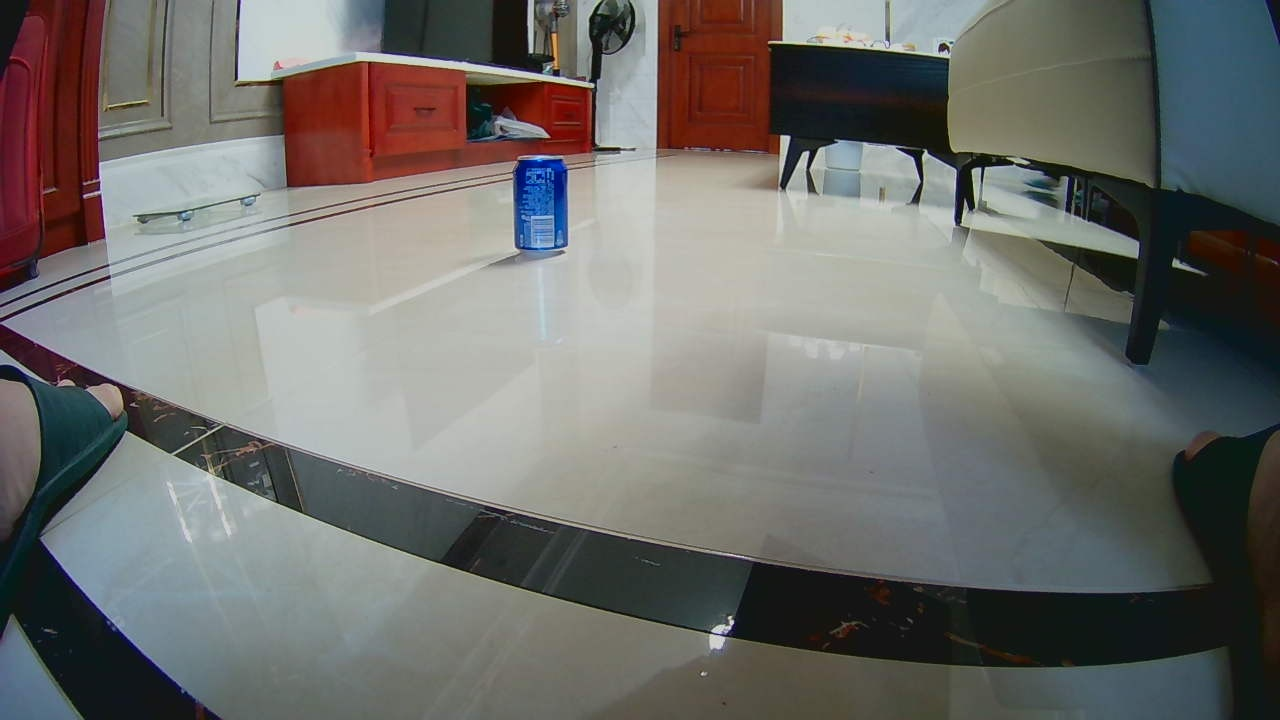pessi: (511, 156, 571, 256)
